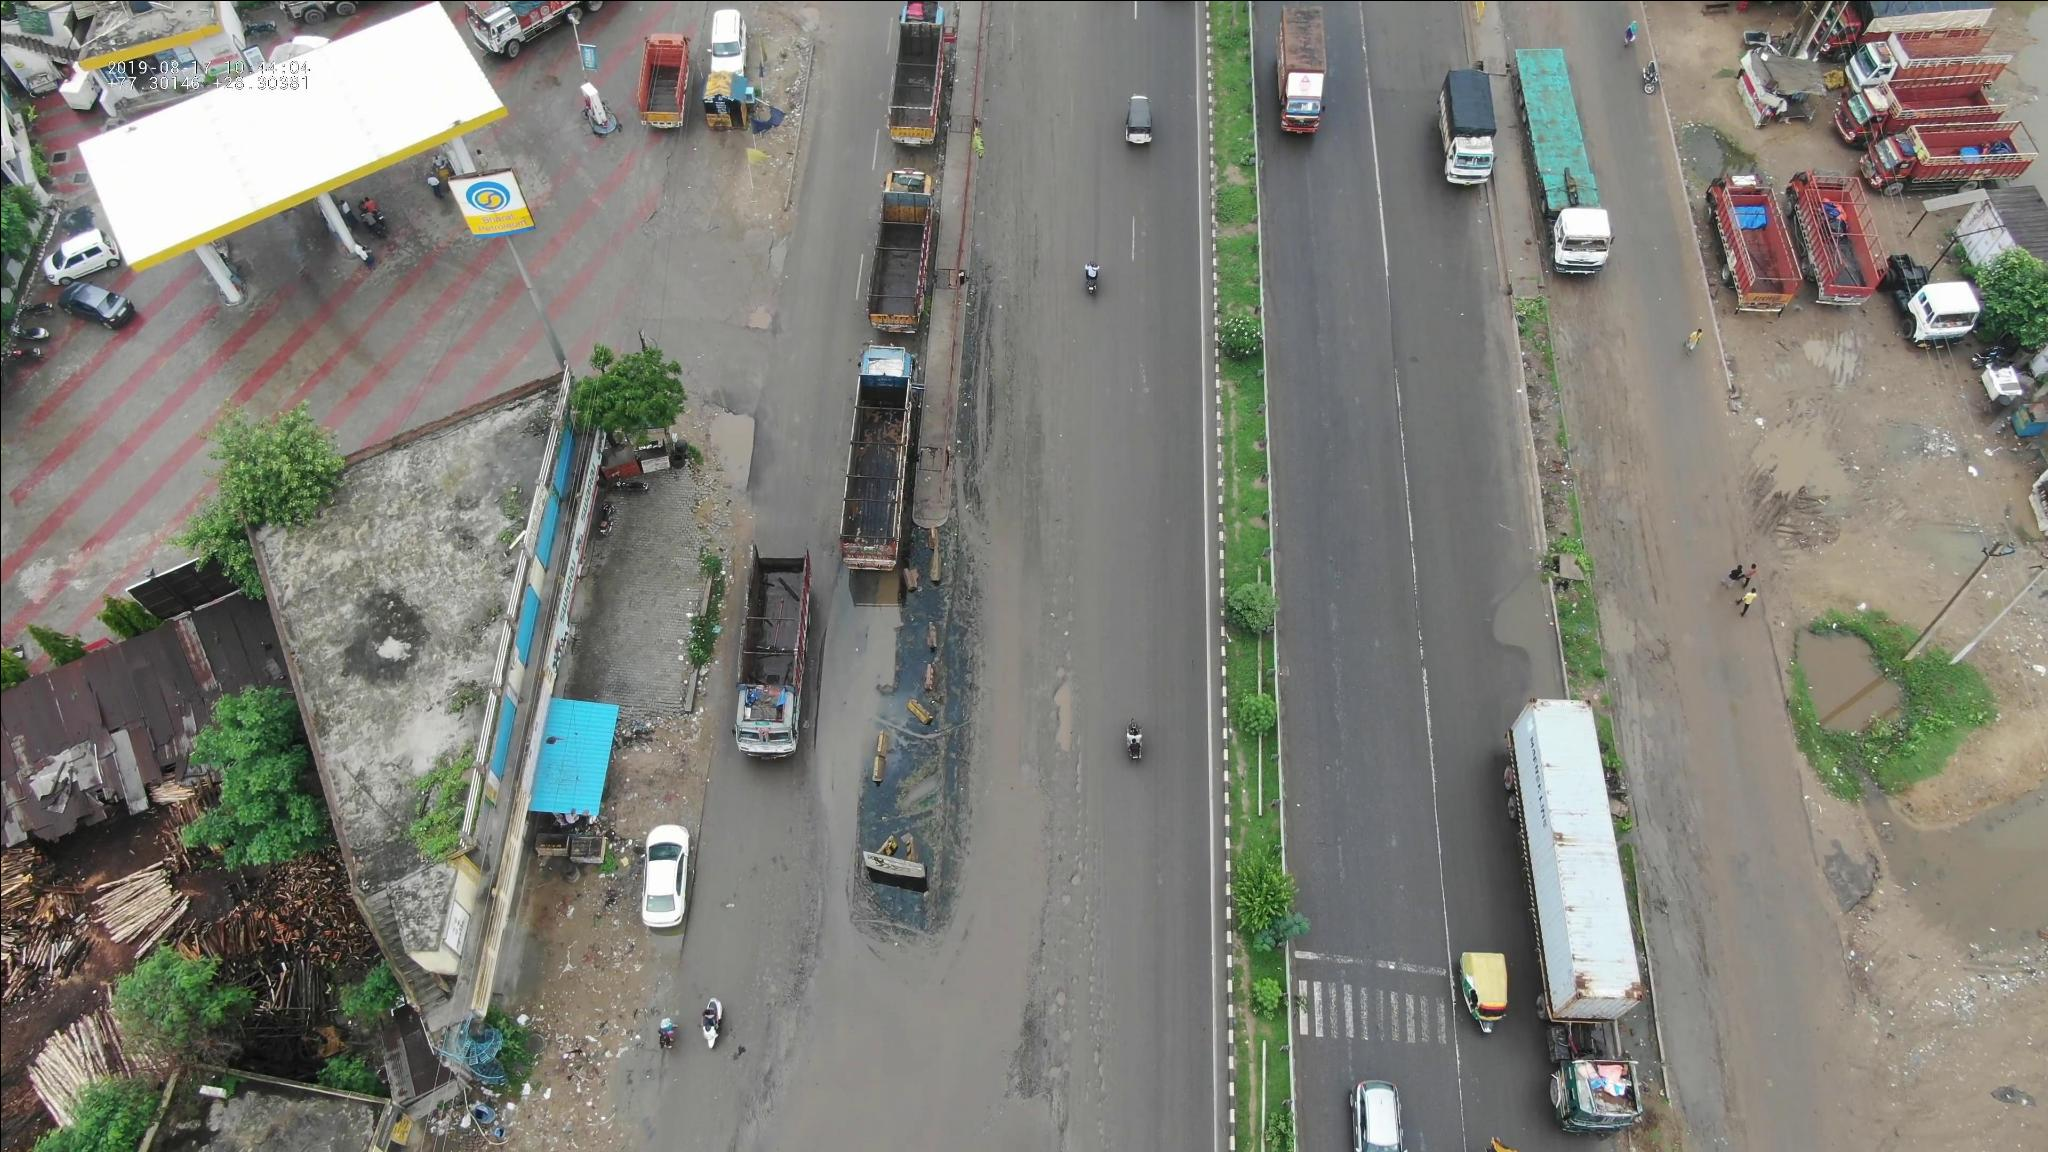Muddy_road: (1581, 518, 1687, 768), (1566, 311, 1641, 527), (971, 245, 1025, 518)
Potholes: (1014, 942, 1120, 1134), (1030, 806, 1107, 1027), (1024, 549, 1101, 765), (1319, 554, 1376, 755), (753, 865, 819, 1016), (734, 288, 779, 364)
Waterlogging: (1485, 544, 1561, 695)
